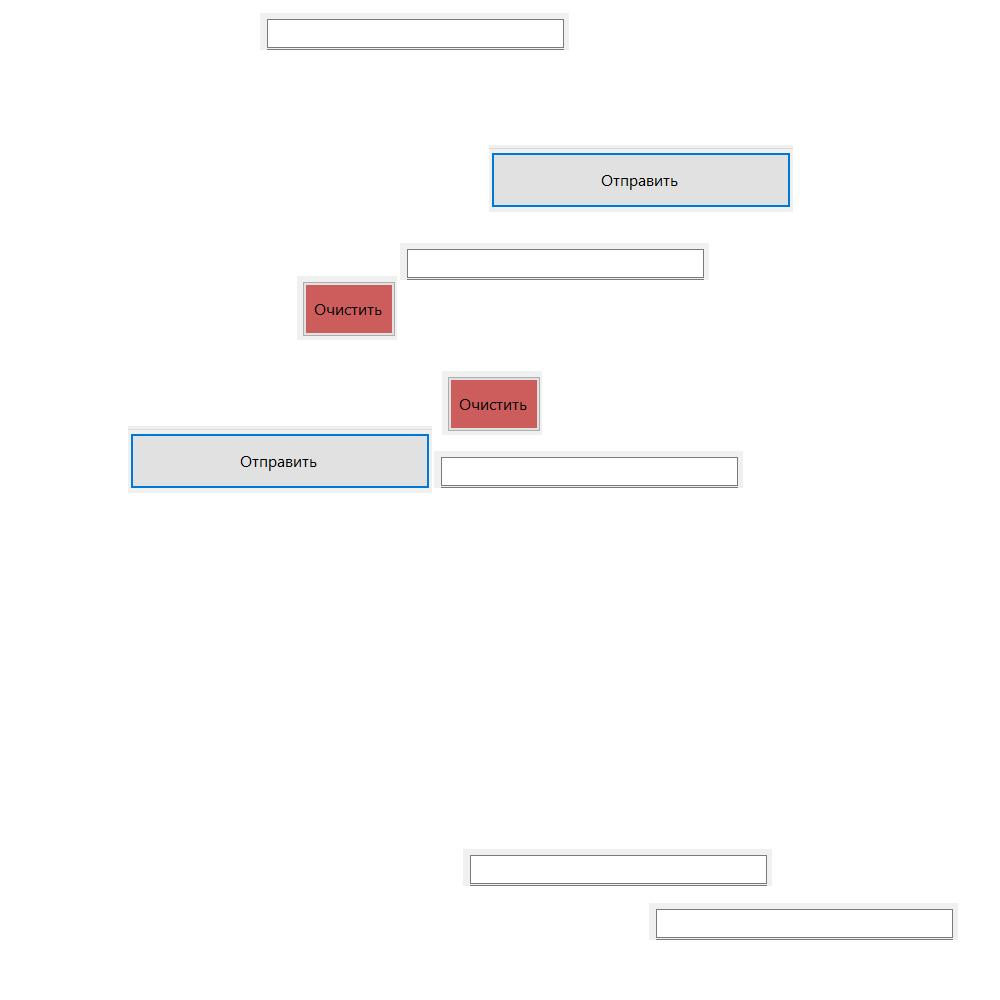Button: (489, 145, 793, 212), (128, 426, 432, 493), (442, 371, 542, 435), (297, 276, 397, 340)
EditText-: (649, 903, 958, 940), (434, 451, 743, 488), (400, 243, 709, 280), (260, 13, 569, 50), (463, 849, 772, 886)
